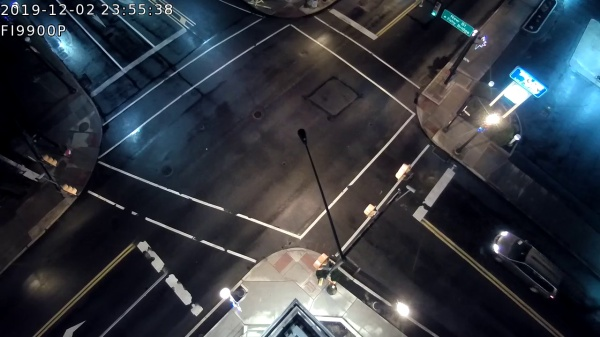car: (483, 227, 564, 298)
